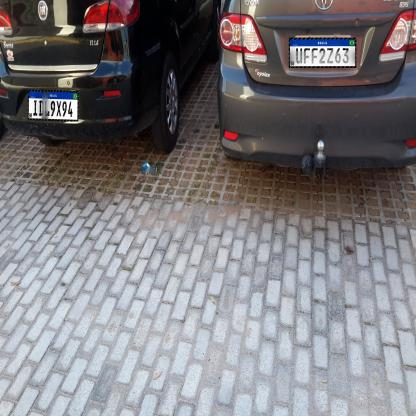PlacaM: (289, 38, 356, 68), (28, 90, 78, 122)
